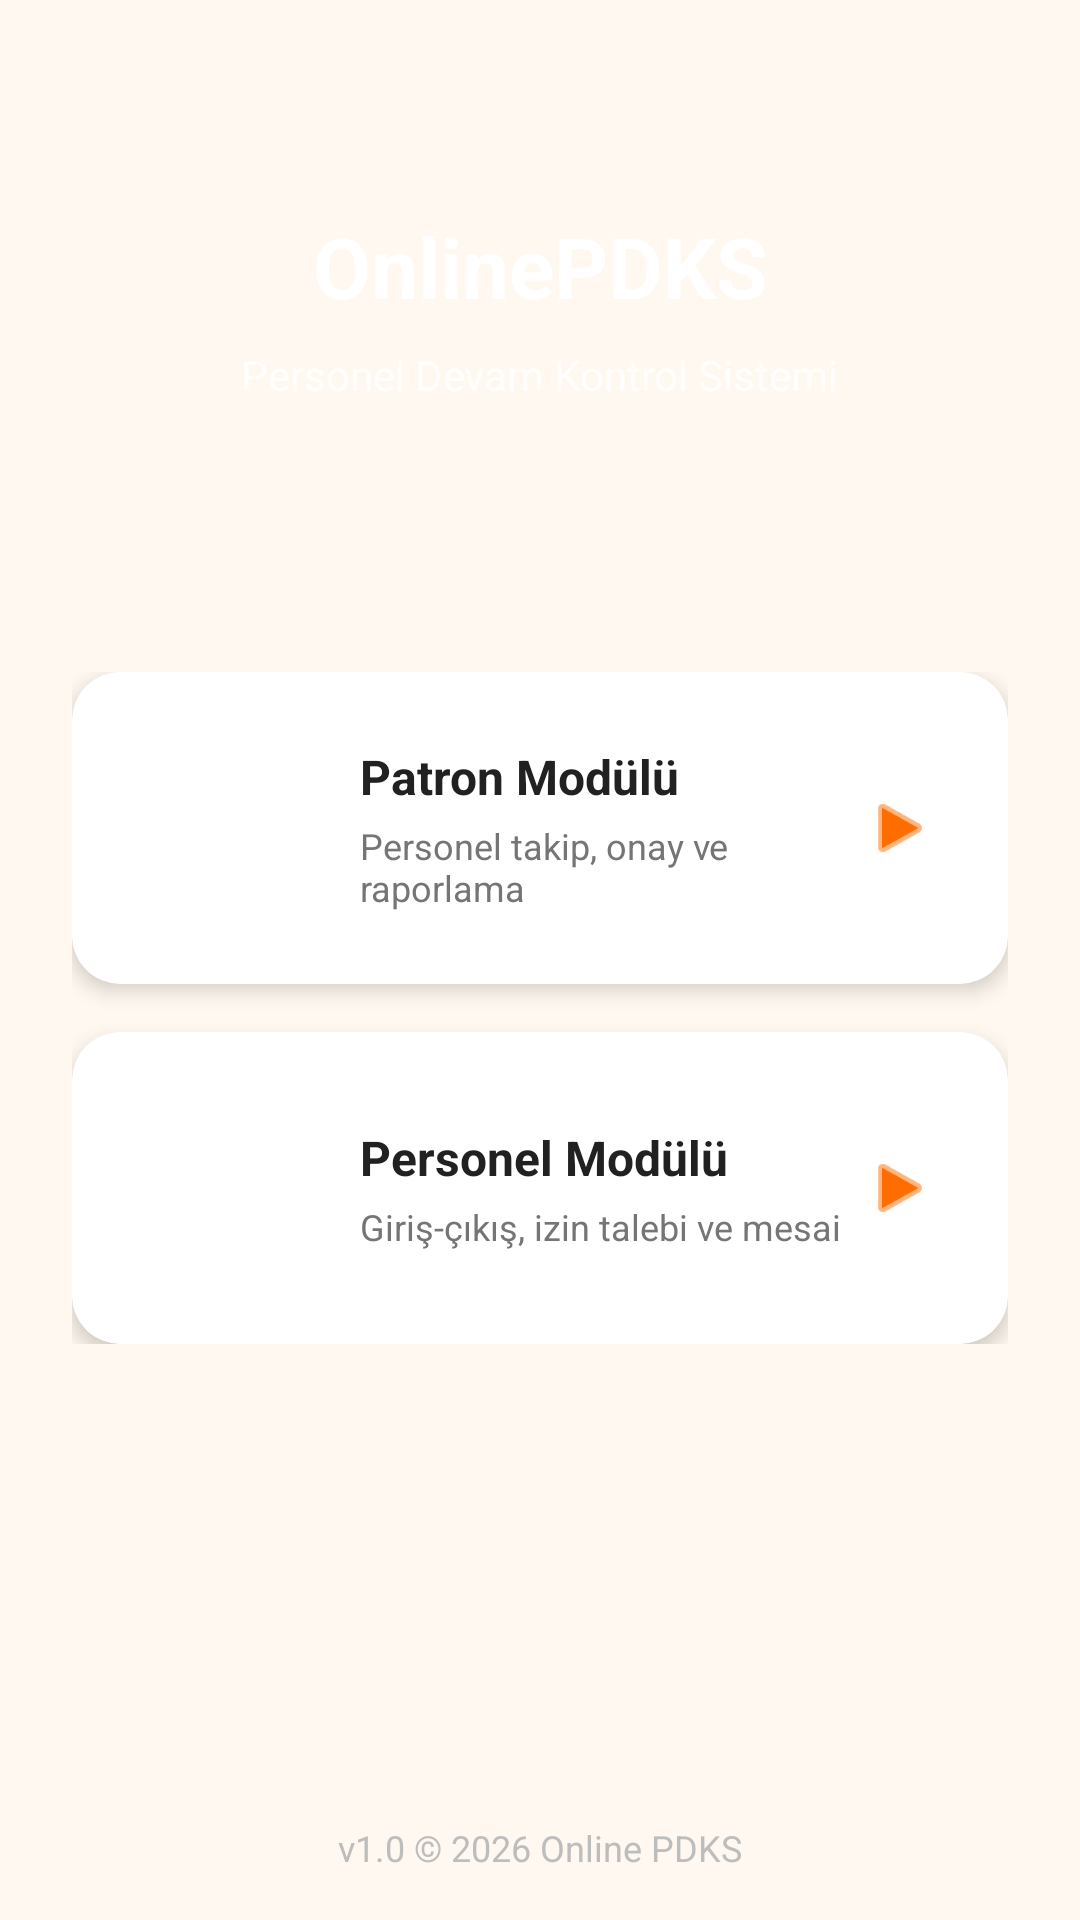

Icon click points for this 1080px x 1920px phone screenshot, format (x=x, y=y):
Git: (x=900, y=828), (x=900, y=1188)
